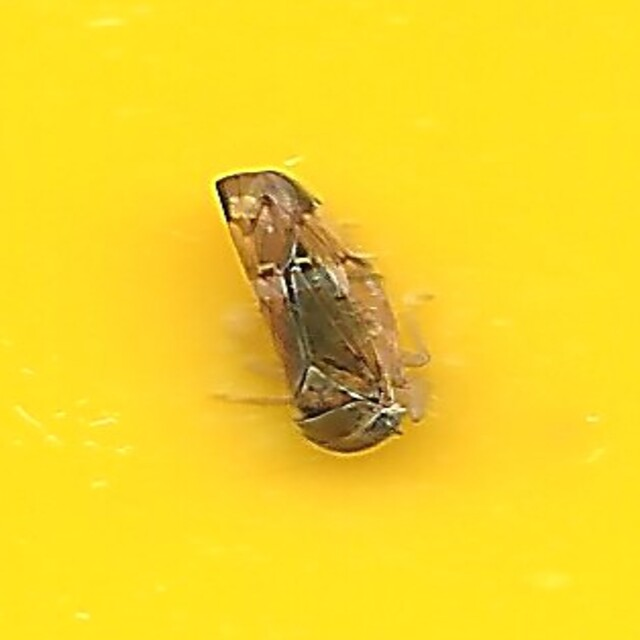Hemiptera: (204, 171, 436, 469)
